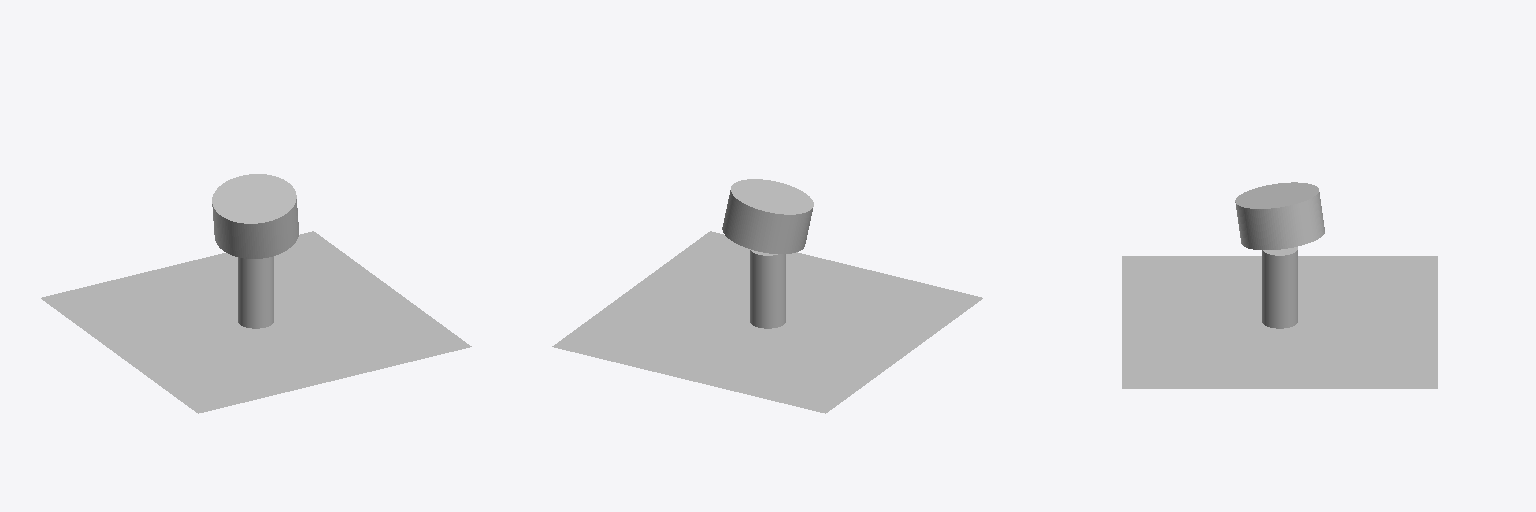
The model's file is lamp7.obj.
3 renders of one model, left to right at view 1: azimuth 30°, elevation 25°; view 2: azimuth 150°, elevation 25°; view 3: azimuth 270°, elevation 25°, orthographic.
Parts seen in each view (by area): view 1: Plane, Cylinder.002, Cylinder; view 2: Plane, Cylinder.002, Cylinder; view 3: Plane, Cylinder.002, Cylinder.
Boxes of the visible parts, box(x1,y1,x2,y2) form: Plane: box(41, 231, 471, 413); Cylinder.002: box(212, 174, 298, 258); Cylinder: box(238, 258, 273, 328); Plane: box(552, 231, 982, 413); Cylinder.002: box(722, 179, 813, 253); Cylinder: box(750, 257, 785, 328); Plane: box(1122, 256, 1437, 388); Cylinder.002: box(1235, 182, 1324, 249); Cylinder: box(1262, 258, 1297, 328).
Size of the model in its own units: 17.18 by 7.96 by 17.18.